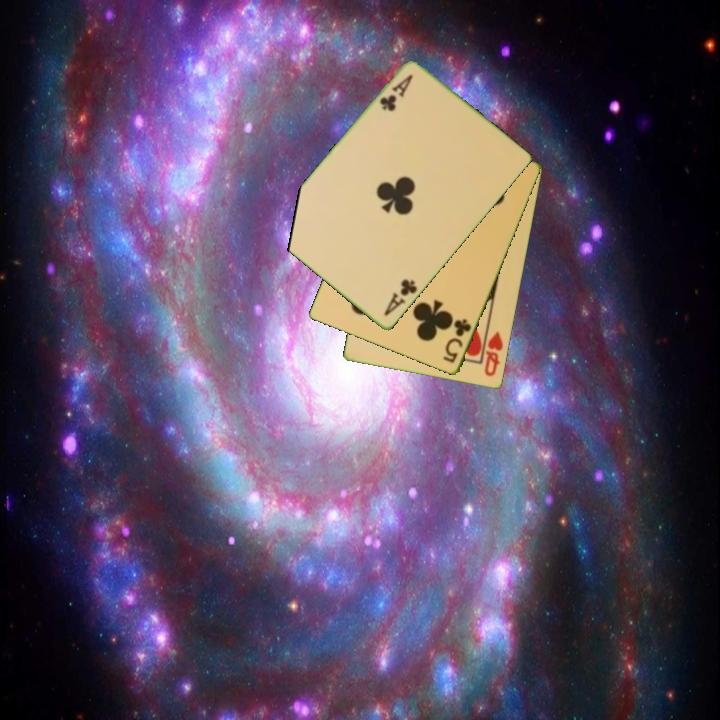5c: (440, 315, 474, 366)
Ac: (380, 276, 420, 320), (376, 71, 416, 115)
Qh: (481, 328, 506, 379)
